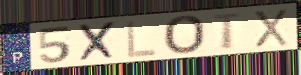5: (36, 24, 72, 65)
L: (125, 19, 159, 60)
O: (161, 14, 207, 56)
T: (210, 12, 245, 51)
X: (77, 20, 119, 64), (251, 8, 290, 49)
